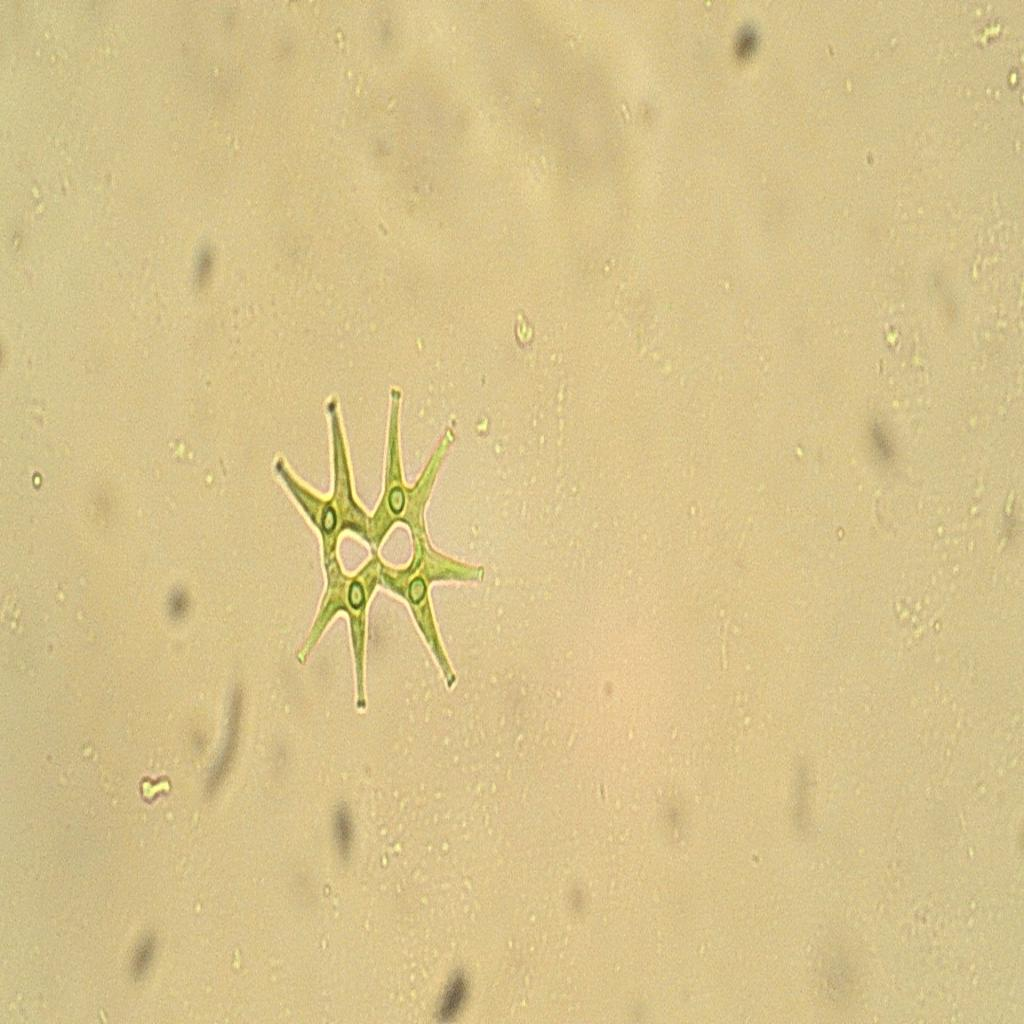Pediastrum_CF: (258, 358, 496, 720)
